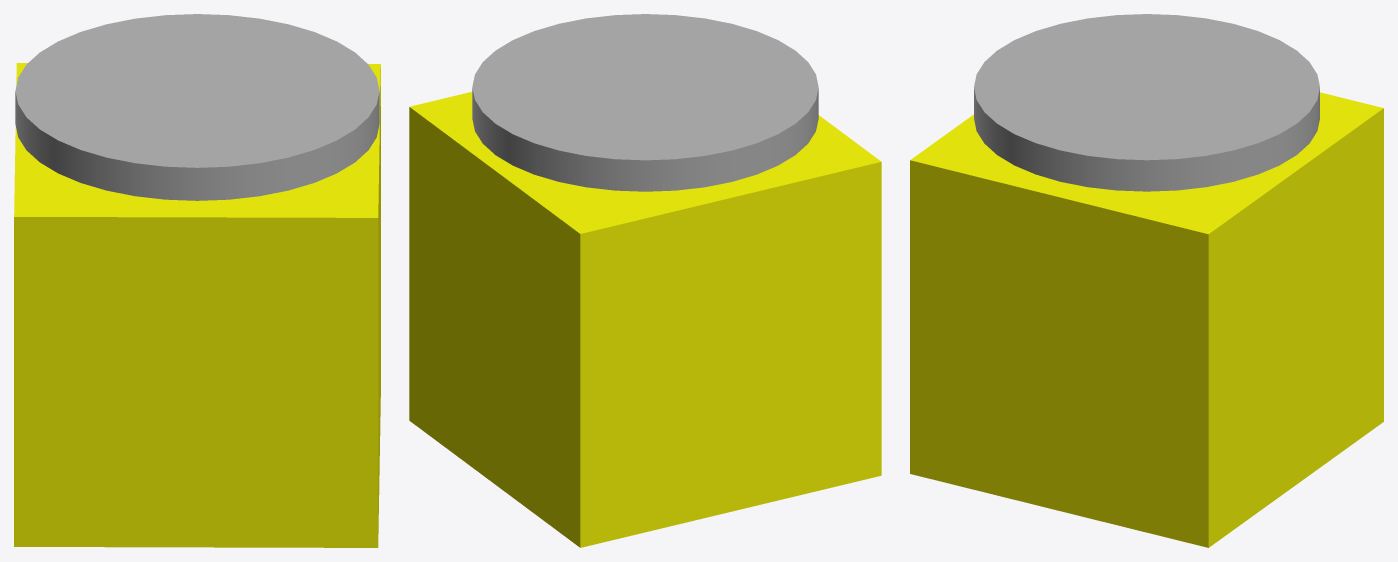
File: bboxx.glb
3 renders of one model, left to right at view 1: azimuth 30°, elevation 25°; view 2: azimuth 150°, elevation 25°; view 3: azimuth 270°, elevation 25°, orthographic. The views are drawn at different scales.
Size of the model in its own units: 1.37 by 1.15 by 1.37.
